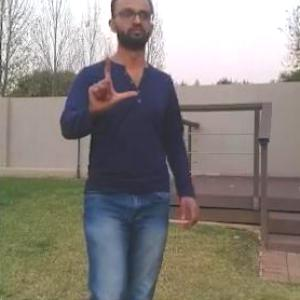land_hand: (85, 45, 140, 112)
